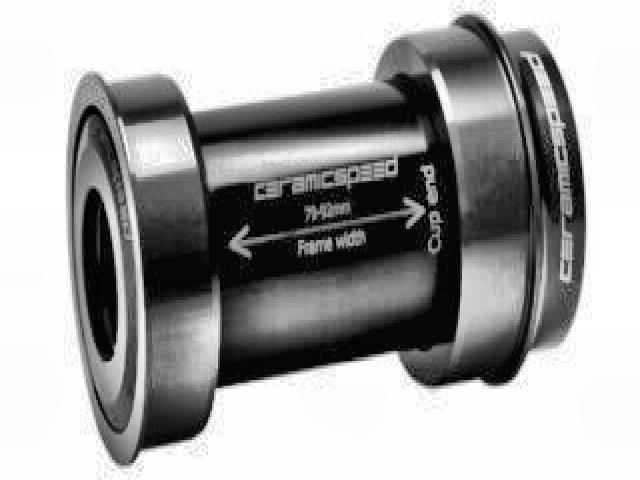bottom_bracket: (63, 11, 588, 470)
